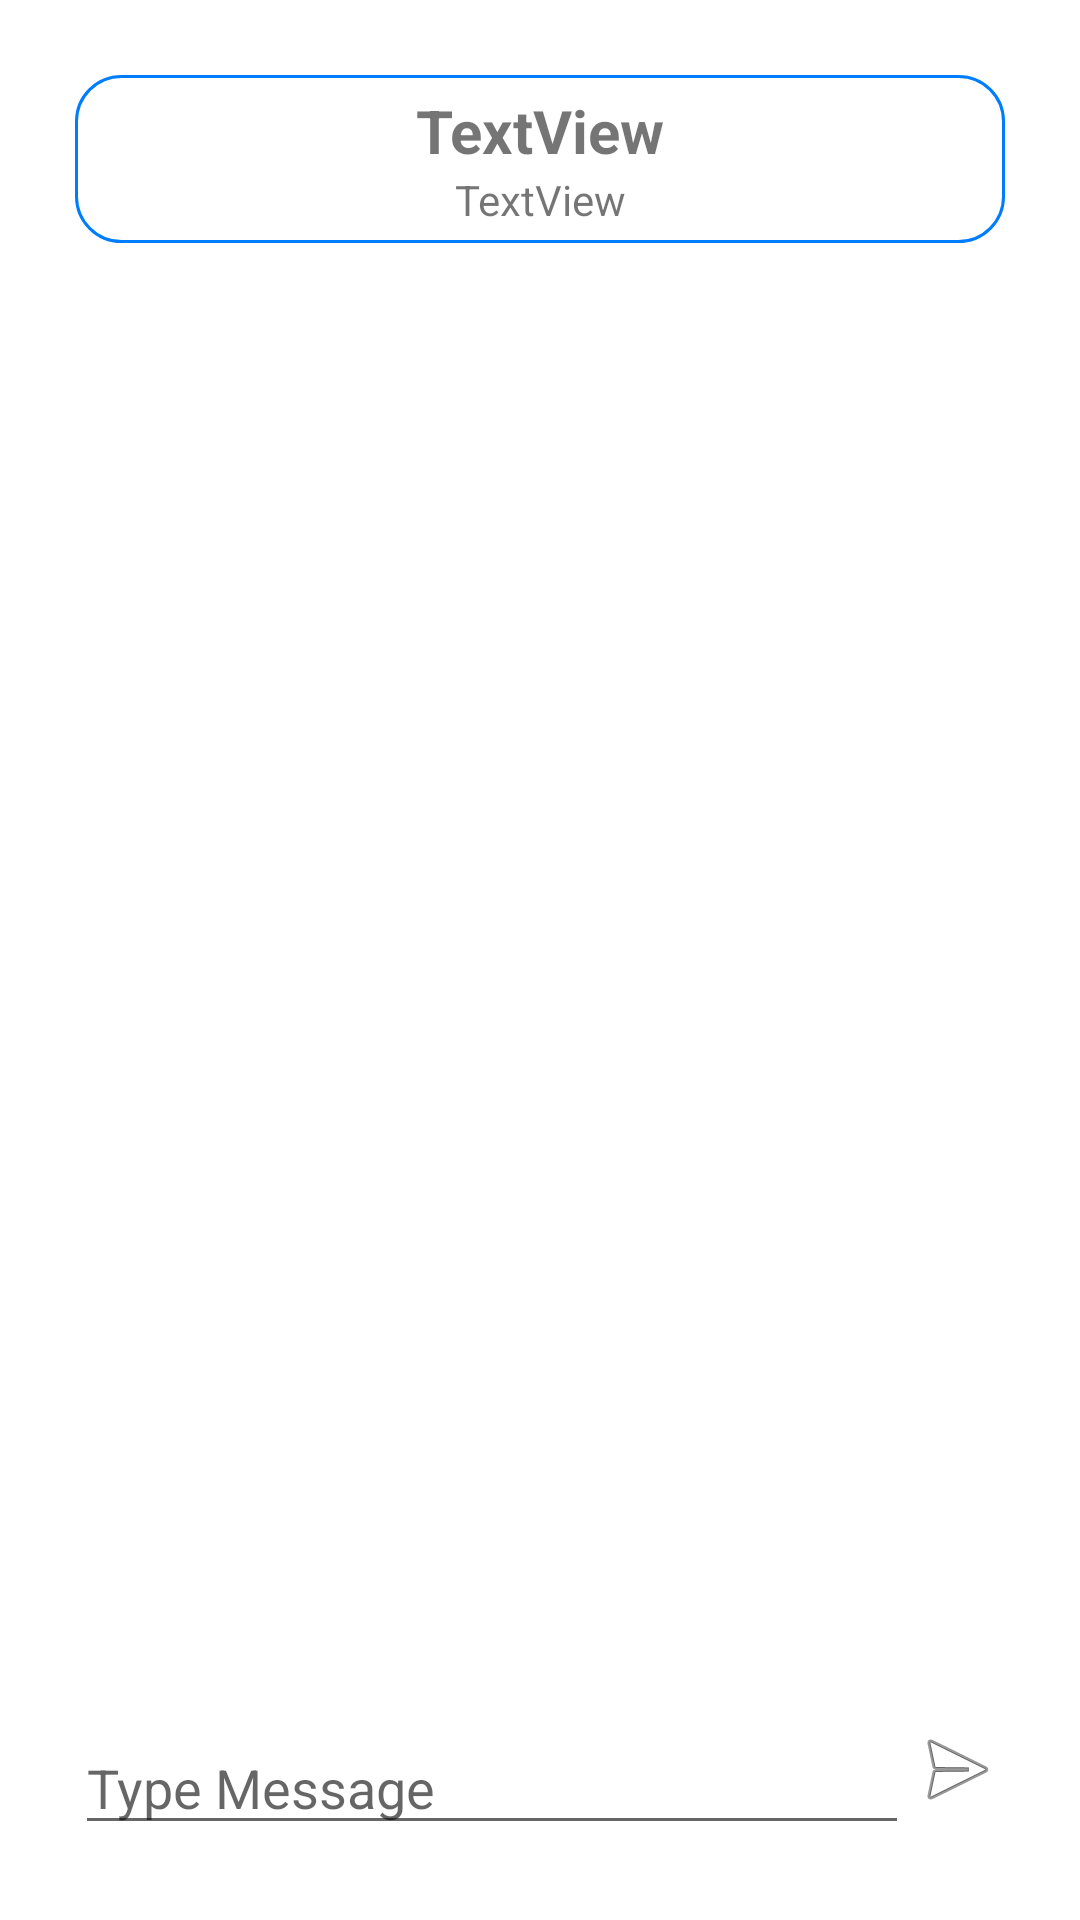

Icon bounding boxes for this 1080 × 1920 phone screenshot, format [x1=x1, y1=y1, x2=x2, y2=y2]:
send: [x1=927, y1=1739, x2=989, y2=1800]
